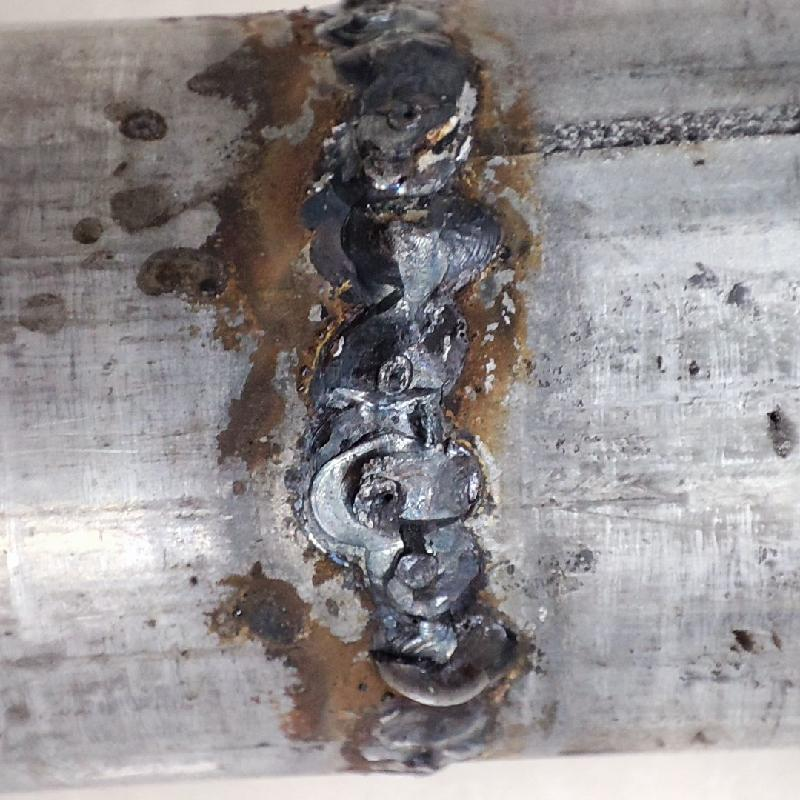Surface_pores: (362, 475, 411, 523), (388, 96, 428, 130), (377, 357, 408, 389)
Weld: (368, 621, 499, 712)
wrong_size: (310, 0, 506, 777)
